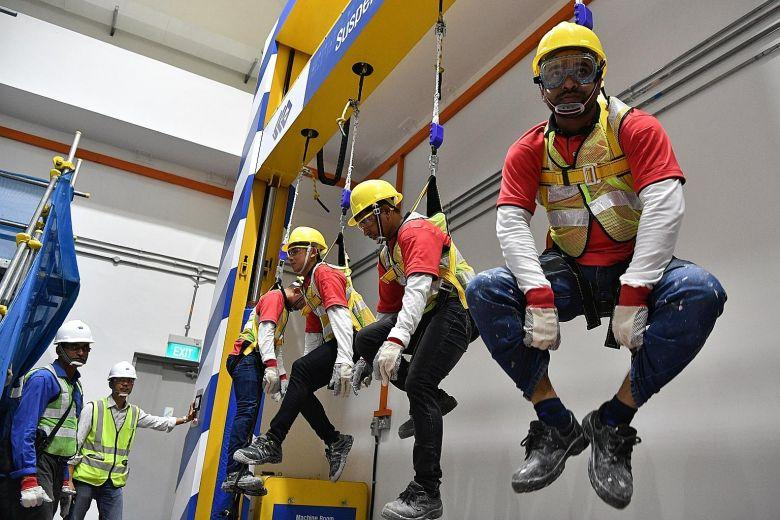helmet: (533, 23, 606, 73), (348, 180, 402, 226), (285, 229, 327, 254), (55, 321, 93, 346), (107, 363, 136, 384)
